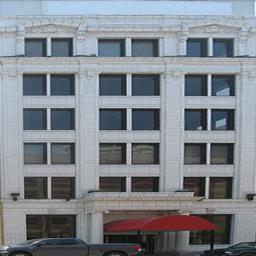building: (0, 0, 256, 241)
